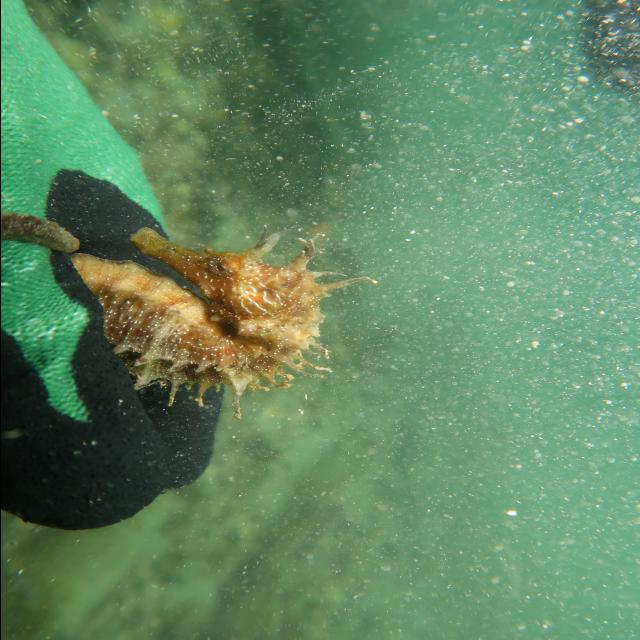Guttu: (125, 224, 333, 332)
